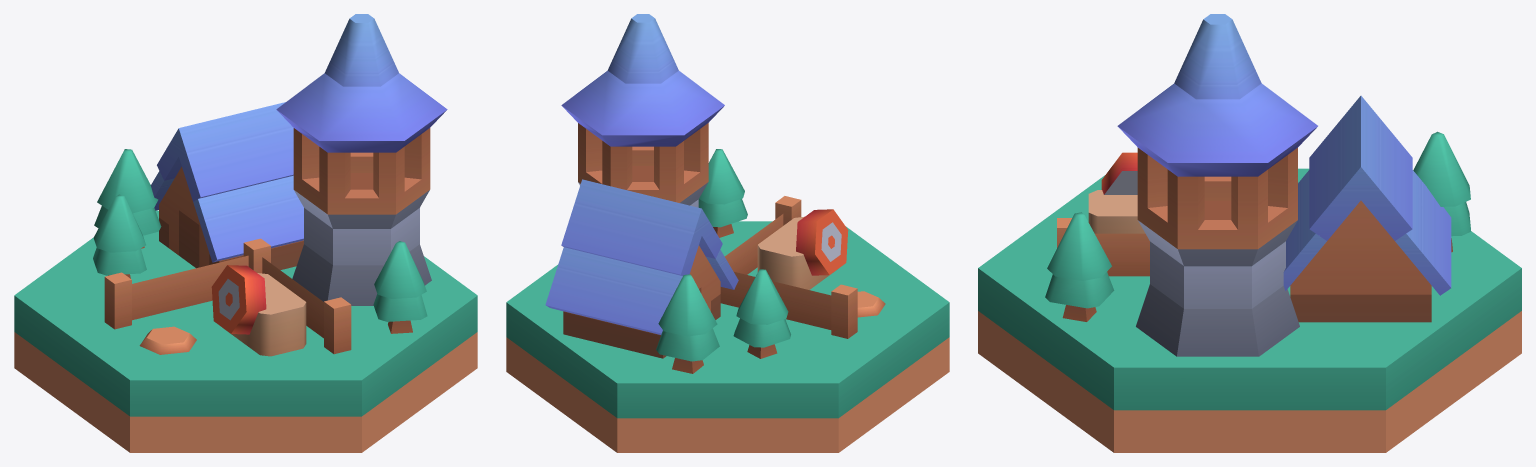
File: kenney-hexagon-building-archery.glb
The picture shows the model from 3 angles, left to right: view 1: azimuth 30°, elevation 25°; view 2: azimuth 150°, elevation 25°; view 3: azimuth 270°, elevation 25°; orthographic projection. The views are drawn at different scales.
Visible parts, largest first — view 1: building_archery; view 2: building_archery; view 3: building_archery.
Boxes of the visible parts, x1,y1,x2,y2 form: building_archery: [14, 14, 477, 452]; building_archery: [506, 14, 949, 452]; building_archery: [978, 14, 1521, 452].
Size of the model in its own units: 1 by 0.92 by 1.15.
1 material, 1 textured.
